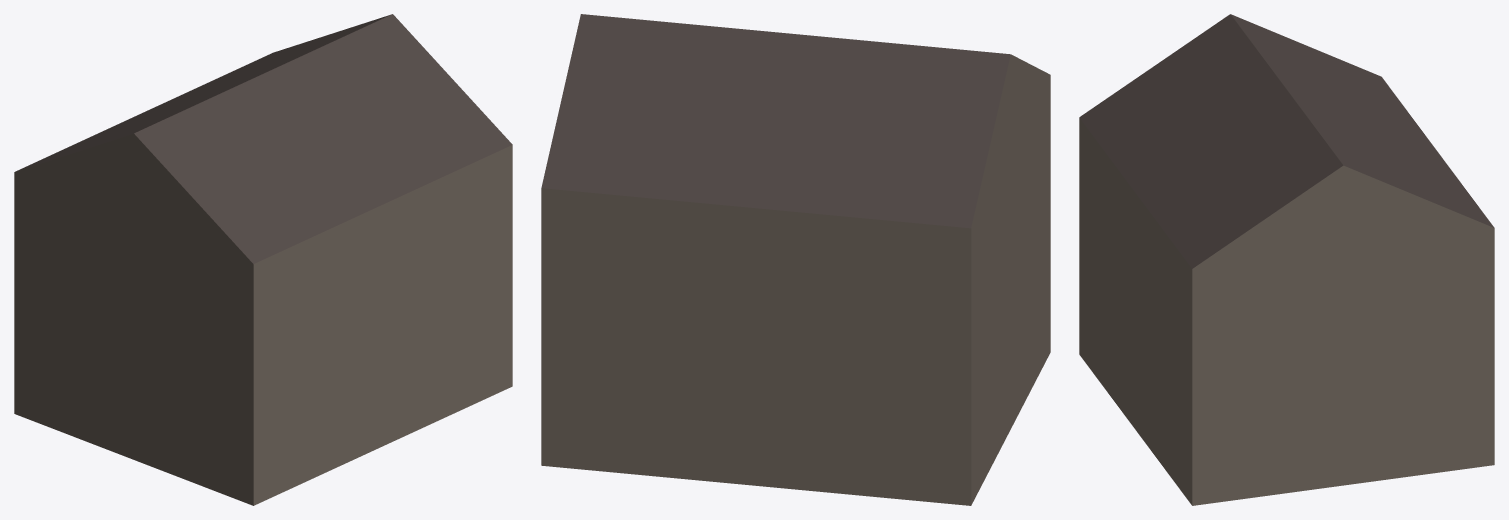
3 views of the same model, side by side, from view 1: azimuth 30°, elevation 25°; view 2: azimuth 150°, elevation 25°; view 3: azimuth 270°, elevation 25° (orthographic). The views are drawn at different scales.
Visible parts, largest first — view 1: HP-w1198840861; view 2: HP-w1198840861; view 3: HP-w1198840861.
Part boxes in pixels (box(x1,y1,x2,y2)): HP-w1198840861: box(14, 14, 512, 505); HP-w1198840861: box(541, 14, 1050, 505); HP-w1198840861: box(1079, 14, 1494, 505).
Size of the model in its own units: 10.44 by 8.1 by 9.54.
